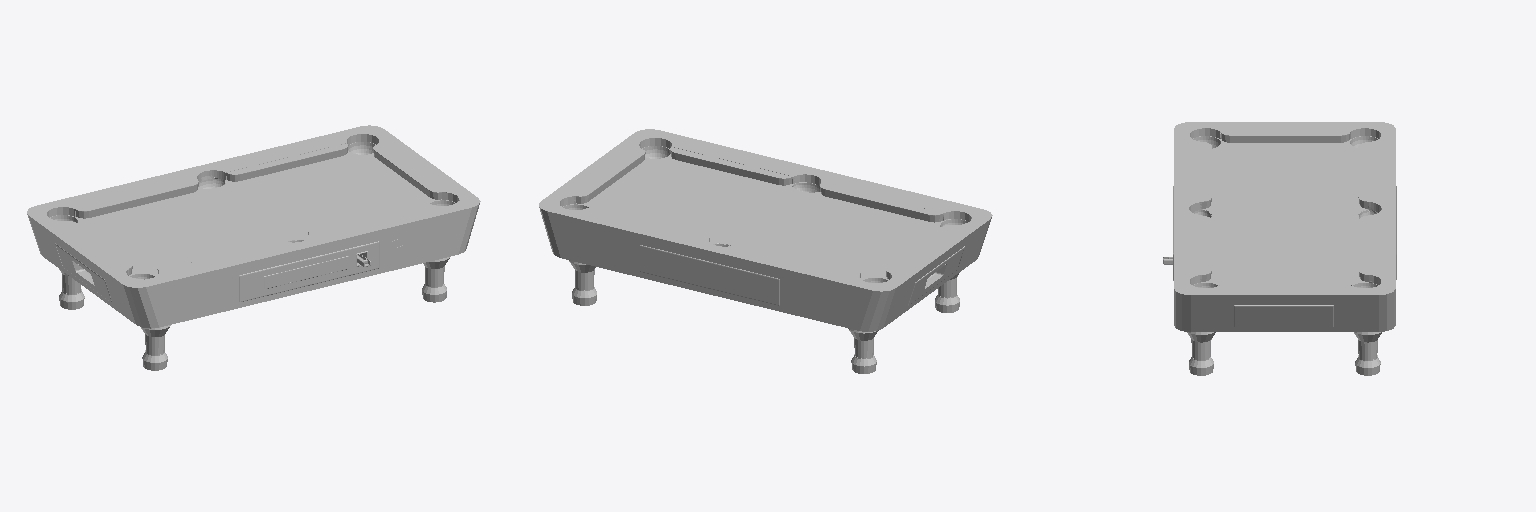
File: sinuca.obj
3 views of the same model, side by side, from view 1: azimuth 30°, elevation 25°; view 2: azimuth 150°, elevation 25°; view 3: azimuth 270°, elevation 25° (orthographic).
Parts seen in each view (by area): view 1: sinuca; view 2: sinuca; view 3: sinuca.
Boxes of the visible parts, x1,y1,x2,y2 form: sinuca: [27, 125, 480, 370]; sinuca: [539, 129, 992, 373]; sinuca: [1163, 122, 1396, 375].
Bounding box in the file's own units: 111 × 28.29 × 62.79.